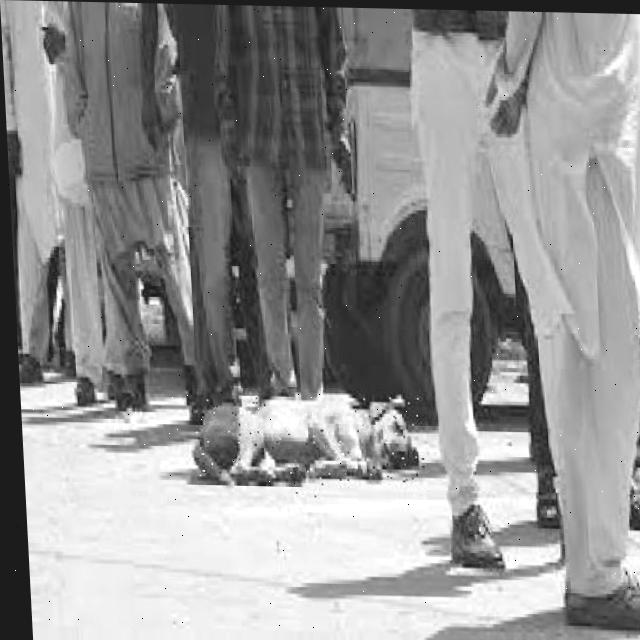Dog: (191, 393, 429, 503)
